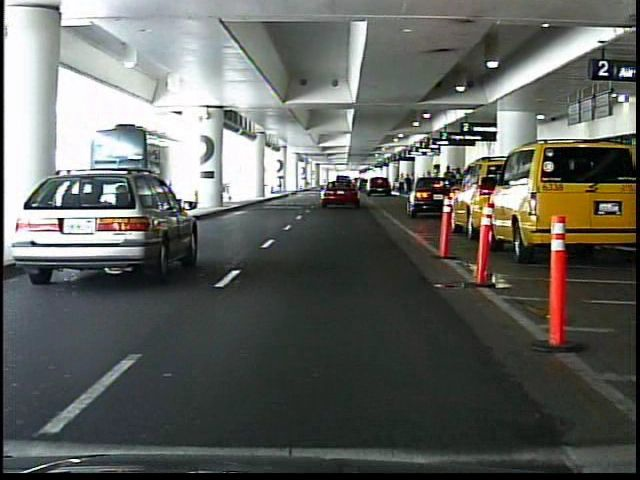person: (440, 162, 459, 212), (452, 166, 466, 211), (398, 173, 407, 196), (406, 173, 413, 196)
